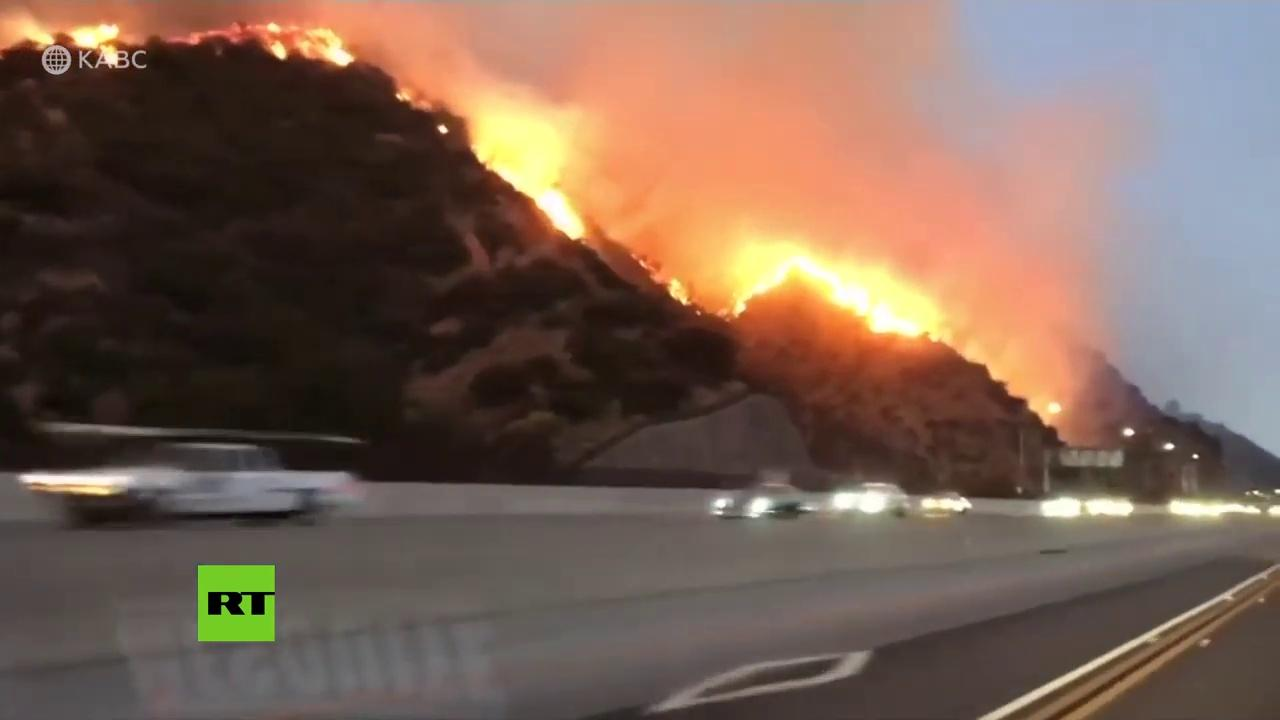Fire: (733, 242, 944, 345), (464, 98, 587, 241), (251, 18, 353, 71), (15, 20, 121, 47), (666, 274, 694, 306)
